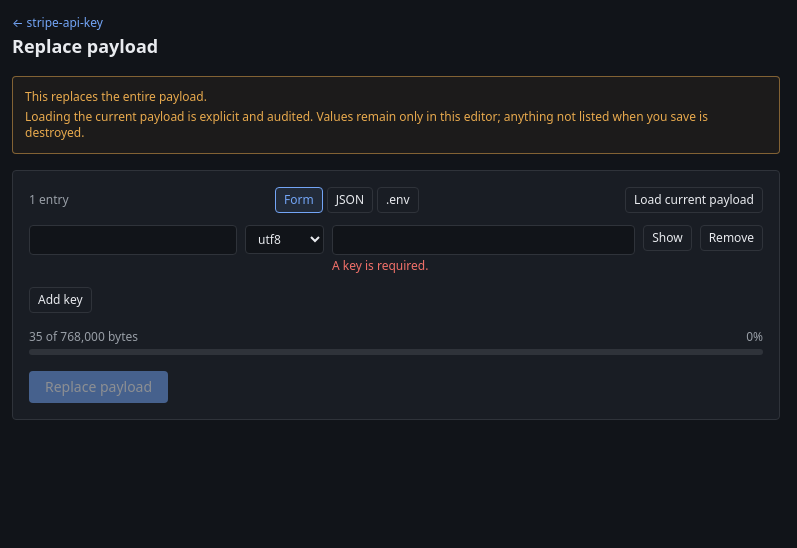
SecretPayload tabs › preserves content across Form -> JSON -> .env -> Form
Type "username" into the field at (133, 240), box [29,225,237,255]
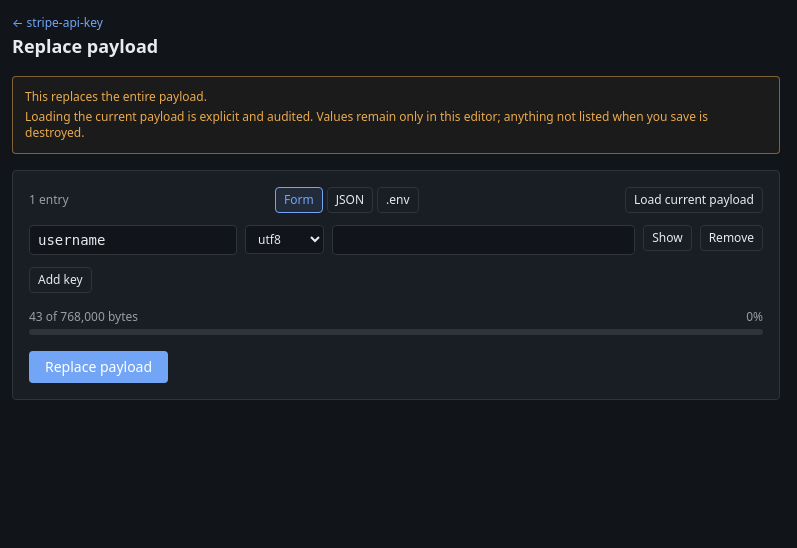
Type "service-account" into the password field at (484, 240), box [332,225,635,255]
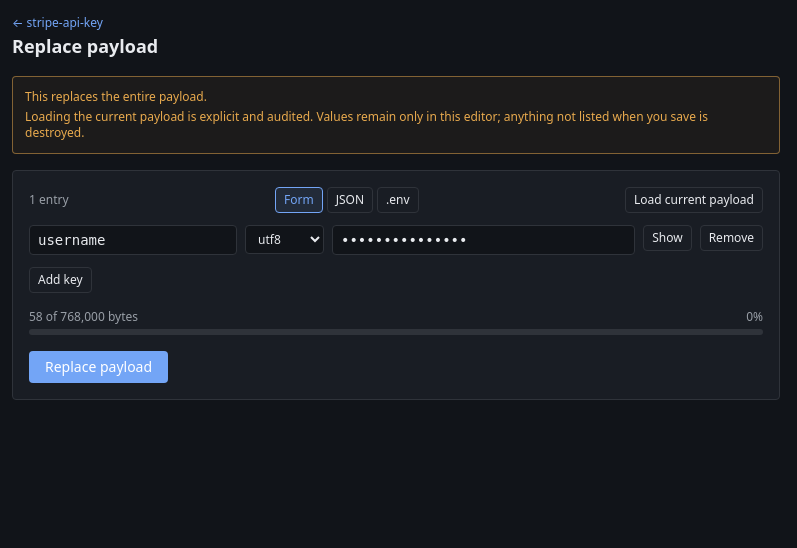
Click the tab "JSON" at (350, 200), box [327,187,373,213]
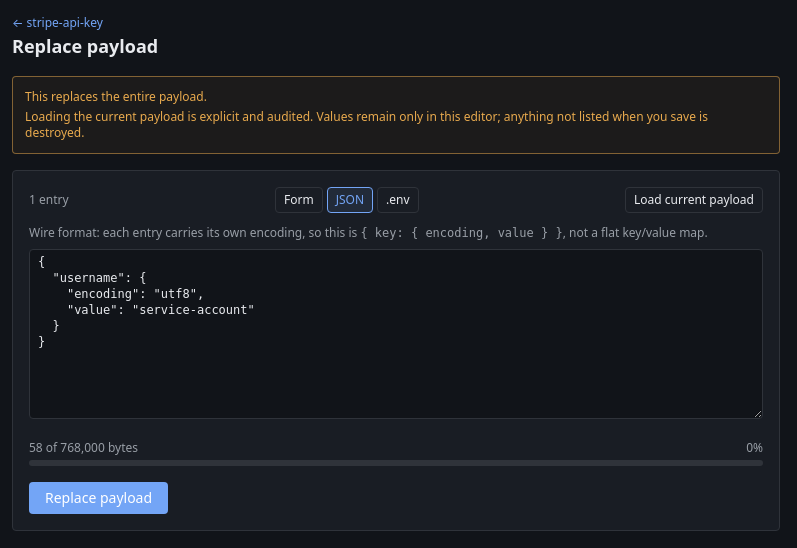
Click the tab ".env" at (398, 200), box [377,187,419,213]
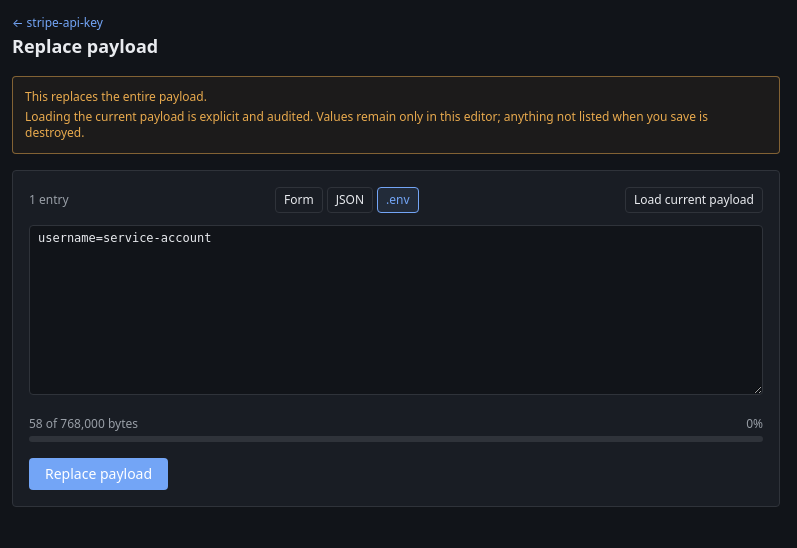
Click the tab "Form" at (299, 200), box [275,187,323,213]
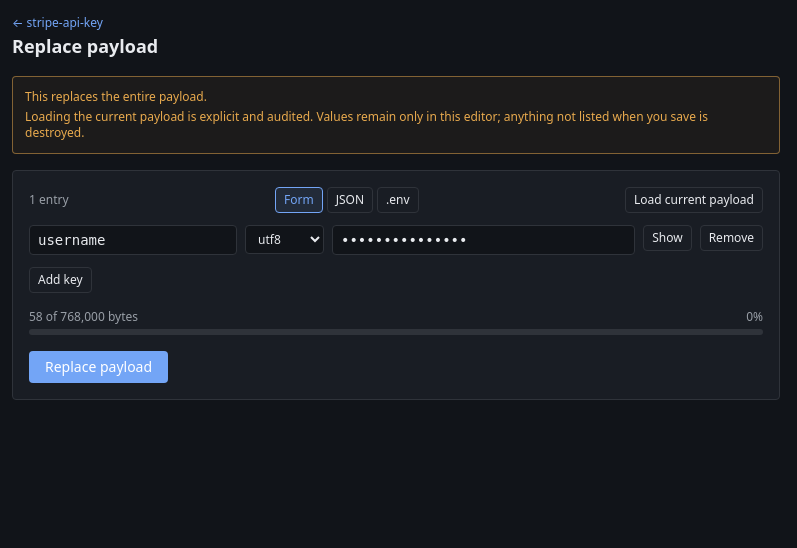
Expected: the field holds "username", [29,225,237,255]
Expected: the password field holds "service-account", [332,225,635,255]
